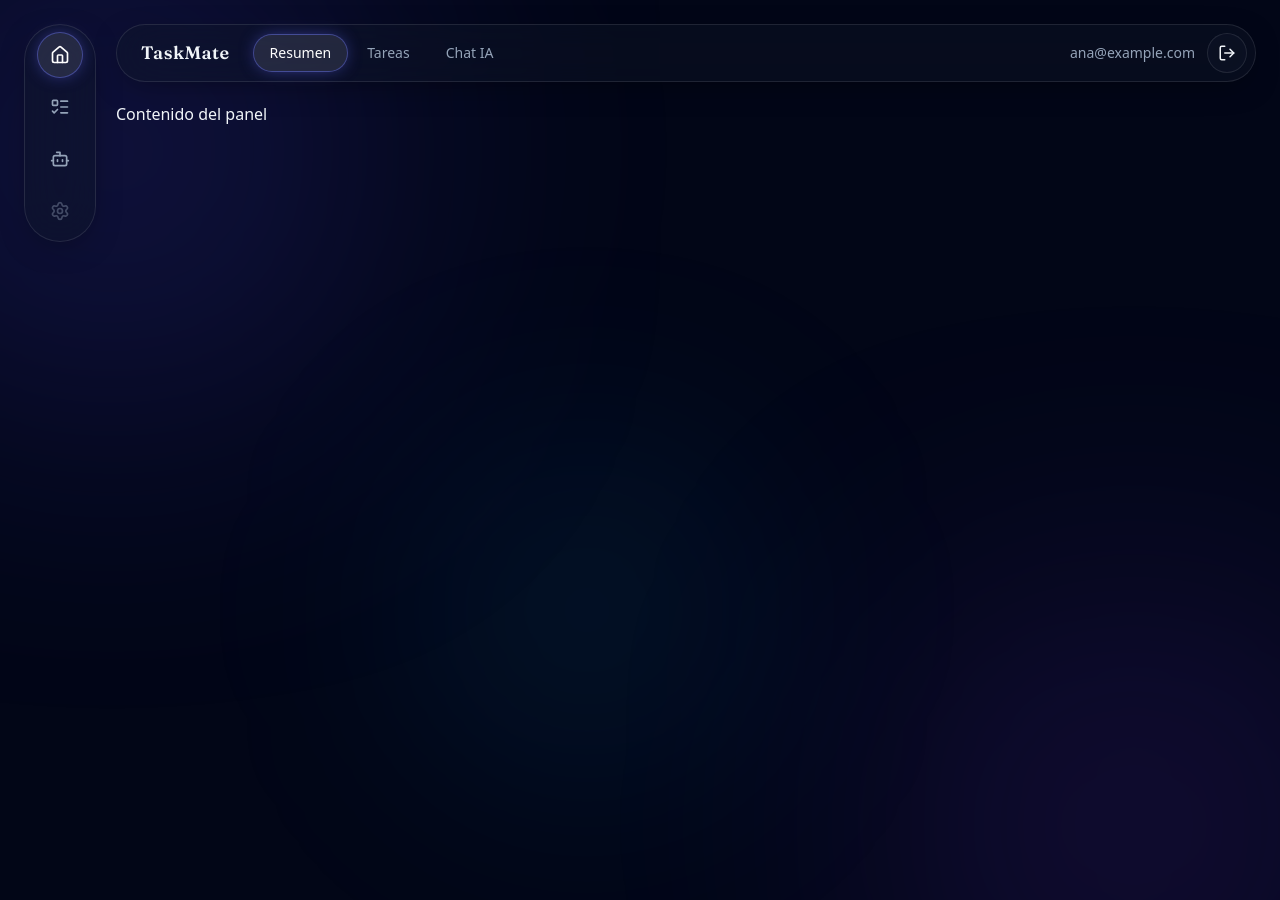
Test: AppShell › cambia la vista al navegar desde la cápsula lateral
Click the link named "Tareas" at (60, 107), box [50, 97, 70, 117]
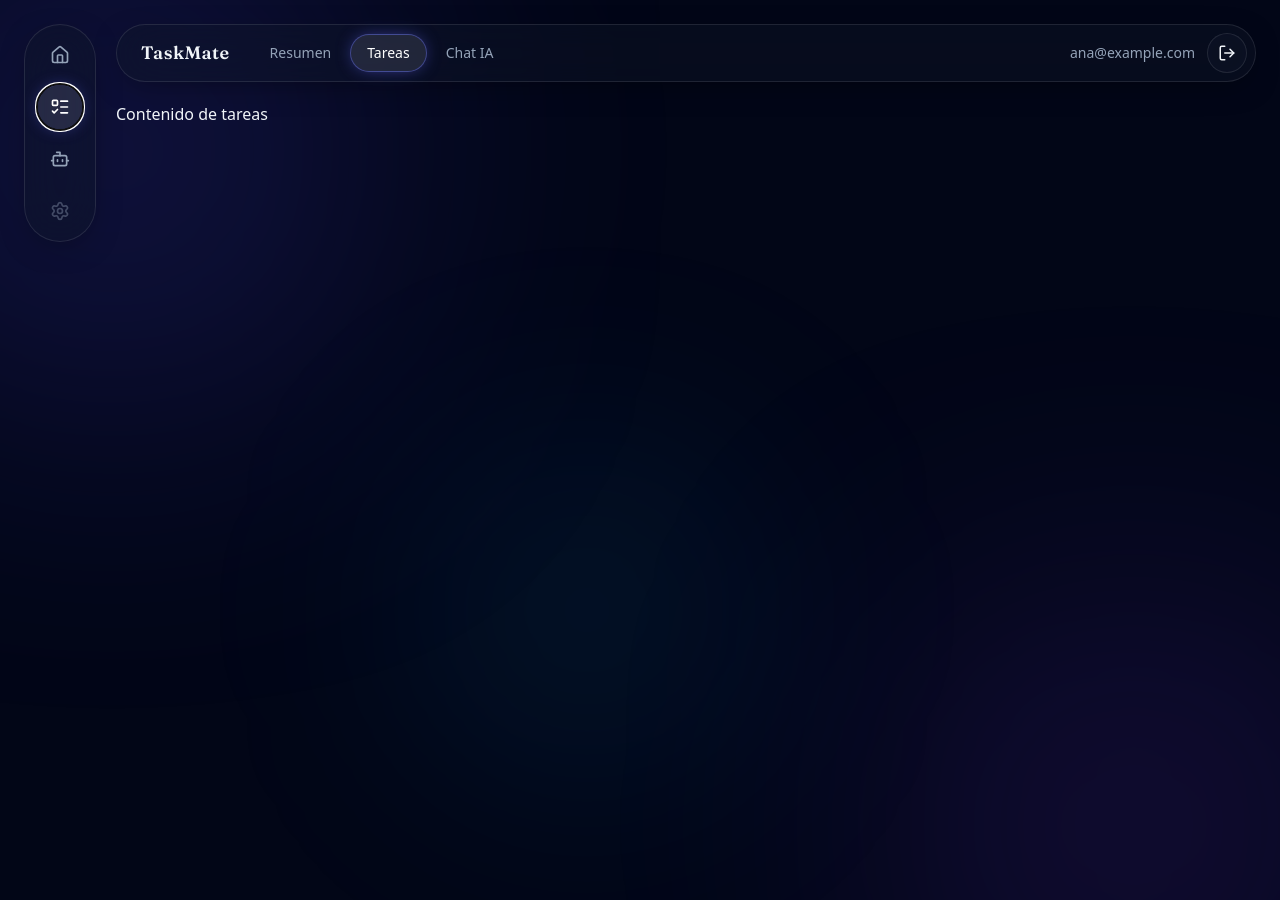
Check: the text "Contenido de tareas" is shown, box [116, 103, 268, 125]
